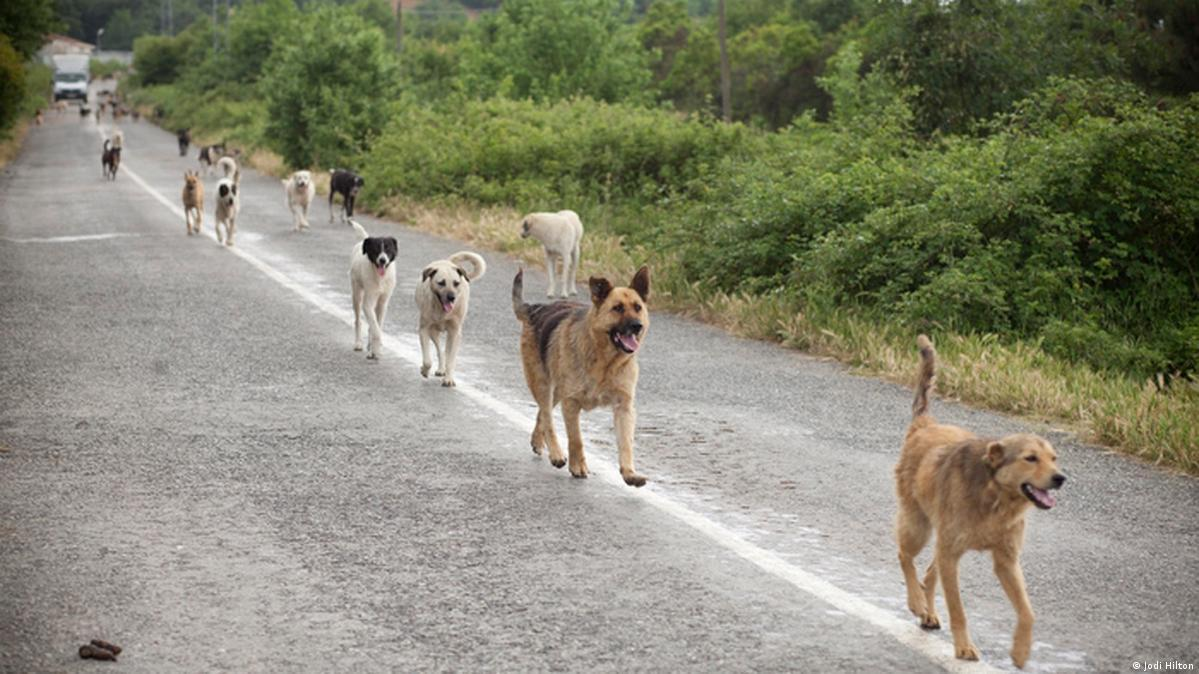dog_aggressive: (878, 326, 1079, 674), (499, 259, 684, 492), (276, 159, 326, 238), (323, 158, 371, 233)
normal_dogs: (330, 214, 403, 369), (413, 239, 486, 391), (500, 198, 604, 303), (204, 150, 250, 250), (173, 162, 211, 237), (90, 132, 127, 183), (173, 120, 192, 155), (109, 118, 125, 150), (109, 97, 128, 123), (30, 100, 44, 126), (54, 94, 70, 116), (75, 102, 92, 122), (95, 97, 108, 113)
